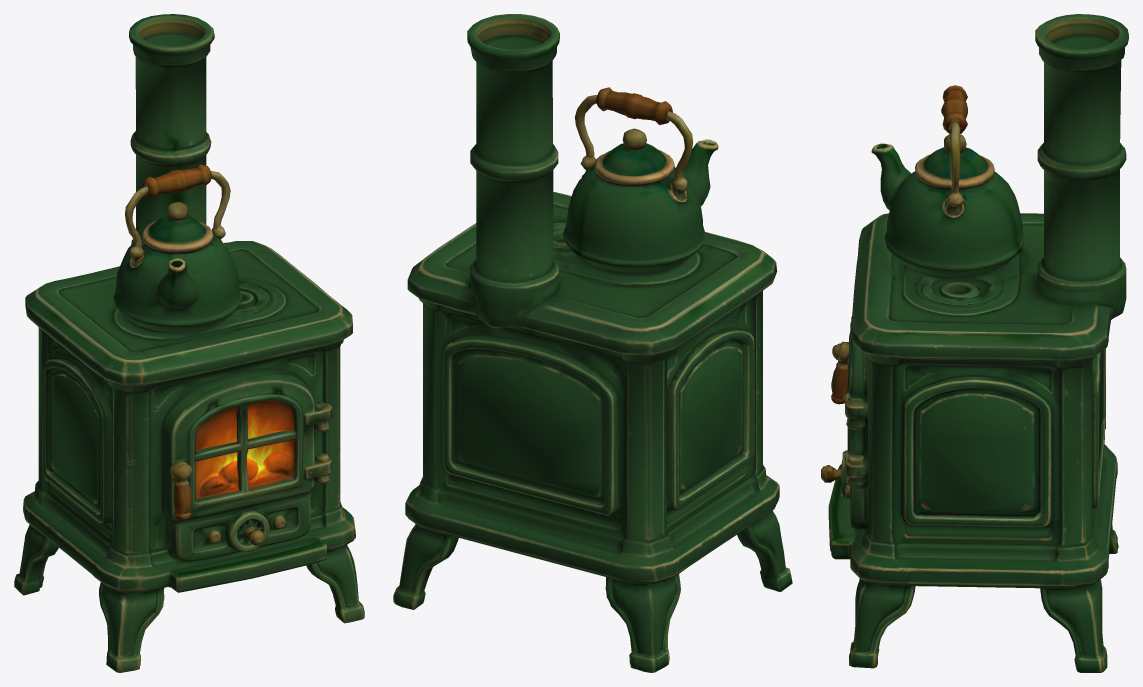
Rendered from stove.glb.
The picture shows the model from 3 angles, left to right: view 1: azimuth 30°, elevation 25°; view 2: azimuth 150°, elevation 25°; view 3: azimuth 270°, elevation 25°; orthographic projection. The views are drawn at different scales.
Parts seen in each view (by area): view 1: tripo_node_3fb46ab6-7e60-4485-bf20-18959f6dfeb4; view 2: tripo_node_3fb46ab6-7e60-4485-bf20-18959f6dfeb4; view 3: tripo_node_3fb46ab6-7e60-4485-bf20-18959f6dfeb4.
Boxes of the visible parts, bbox=[...] form: tripo_node_3fb46ab6-7e60-4485-bf20-18959f6dfeb4: bbox=[14, 14, 364, 672]; tripo_node_3fb46ab6-7e60-4485-bf20-18959f6dfeb4: bbox=[393, 14, 792, 672]; tripo_node_3fb46ab6-7e60-4485-bf20-18959f6dfeb4: bbox=[821, 14, 1128, 672].
Bounding box in the file's own units: 0.4886 × 0.9792 × 0.4657.
Materials: 1 (1 with a texture image).
